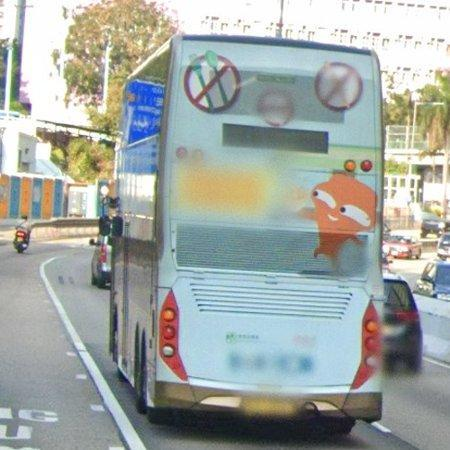buses: (112, 35, 384, 428)
